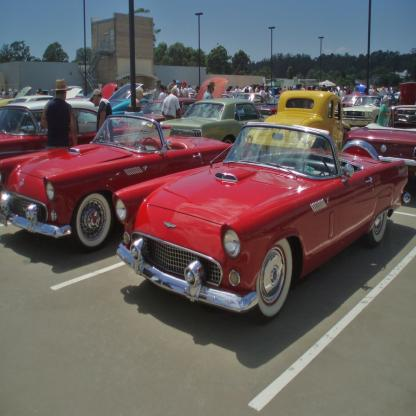Car: (1, 78, 416, 326)
